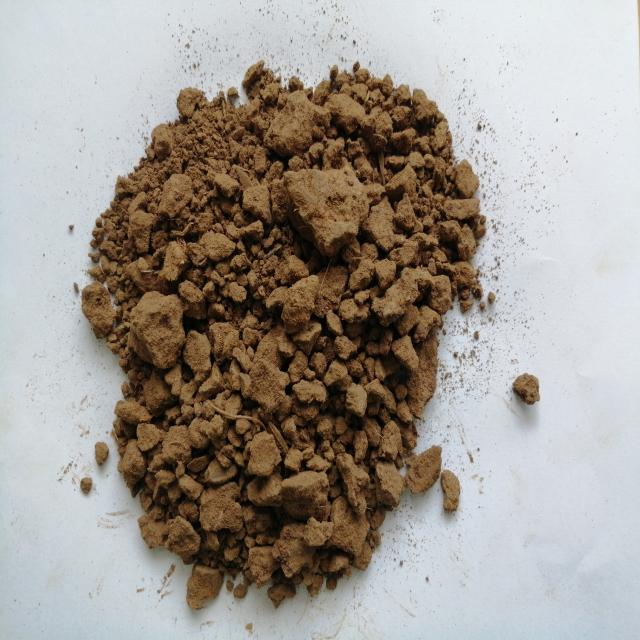soil: (131, 153, 422, 492)
